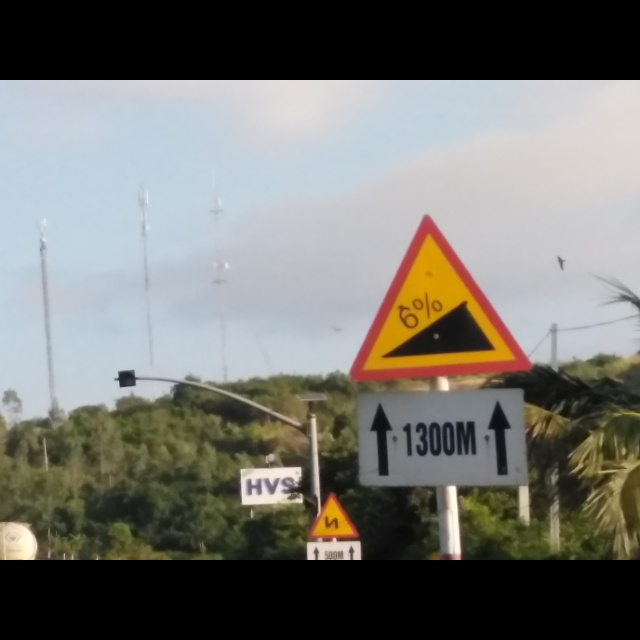Dốc lên nguy hiểm: (344, 212, 530, 385)
Ngoặt nguy hiểm liên tiếp bên phải: (308, 493, 360, 541)
